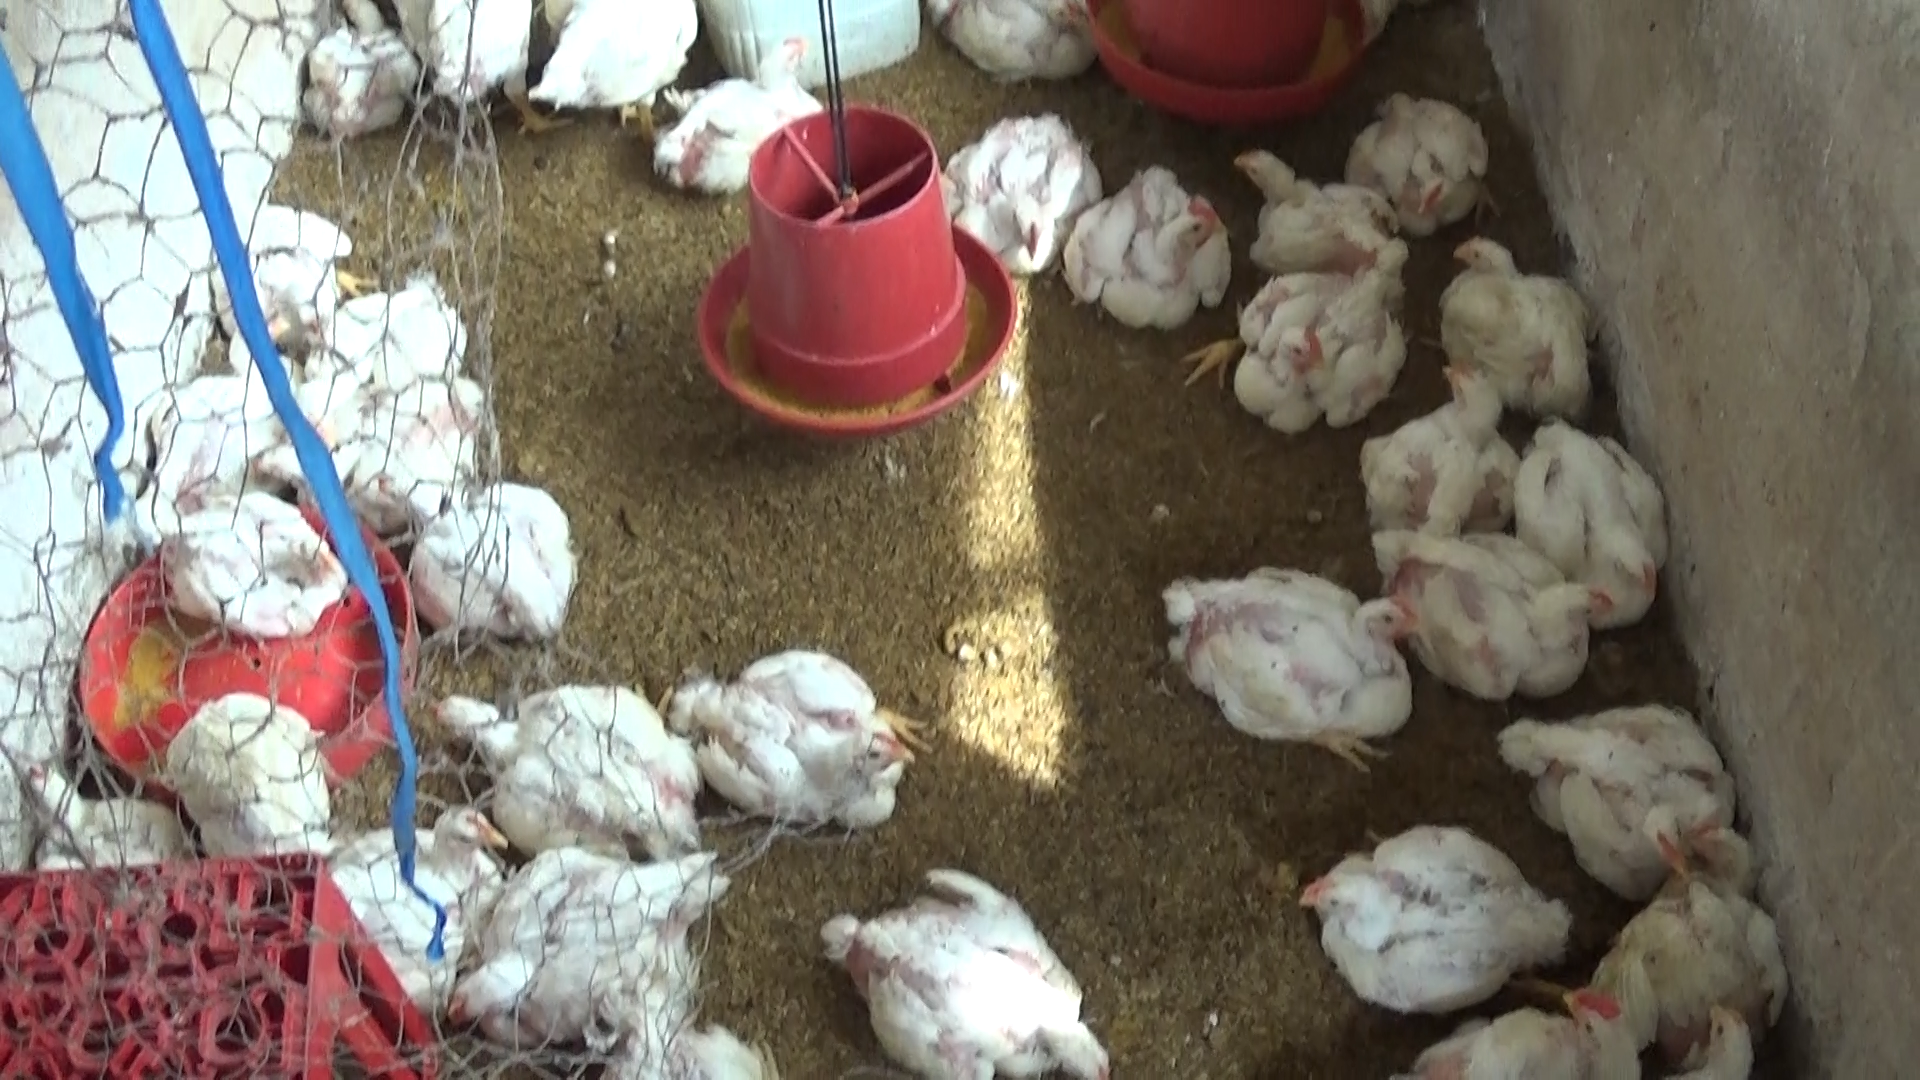Pollos: (1146, 551, 1437, 787), (811, 866, 1120, 1080), (1286, 812, 1571, 1011), (442, 852, 716, 1036), (1196, 228, 1429, 444), (662, 653, 934, 832), (1360, 517, 1606, 709), (1520, 705, 1753, 907), (406, 674, 680, 837), (1350, 368, 1553, 582), (1509, 406, 1687, 636), (1607, 814, 1782, 1036), (342, 775, 527, 971), (160, 465, 356, 646), (934, 103, 1121, 289), (1425, 225, 1597, 425), (1060, 157, 1241, 336), (1451, 938, 1660, 1080), (422, 462, 587, 640), (644, 33, 822, 191), (1228, 146, 1422, 282), (150, 703, 336, 843), (1336, 92, 1515, 232), (520, 0, 698, 132), (936, 0, 1096, 78), (1698, 975, 1778, 1080)
